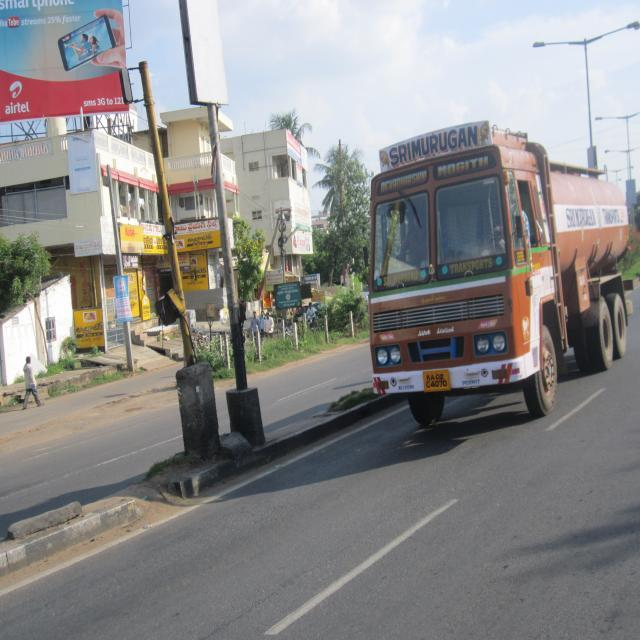truck_front: (364, 118, 634, 440)
